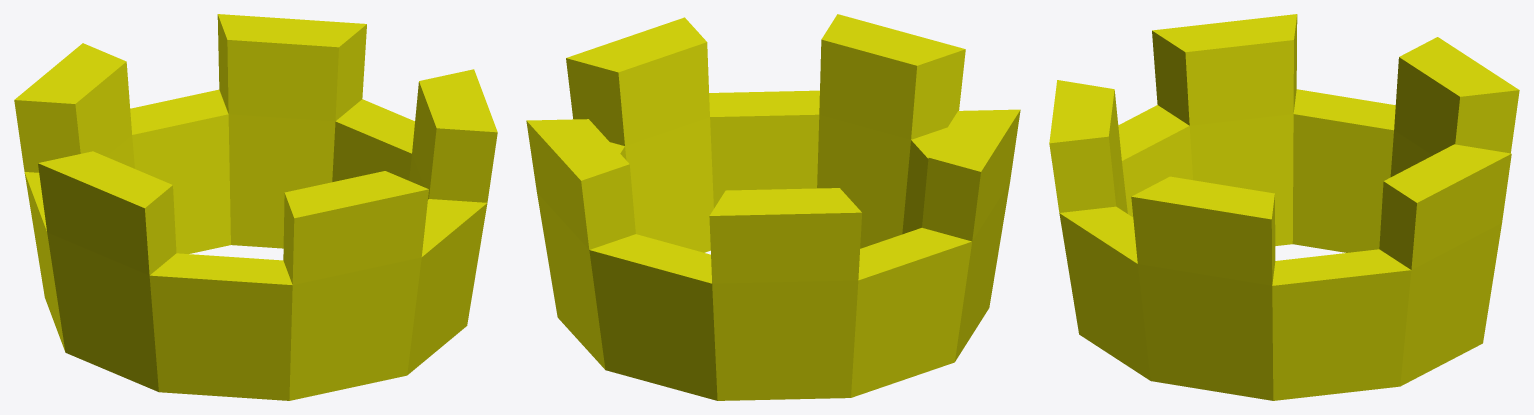
File: hat5.fbx
The picture shows the model from 3 angles, left to right: view 1: azimuth 30°, elevation 25°; view 2: azimuth 150°, elevation 25°; view 3: azimuth 270°, elevation 25°; orthographic projection.
Visible parts, largest first — view 1: Cylinder; view 2: Cylinder; view 3: Cylinder.
Part boxes in pixels (x1,y1,x2,y2): Cylinder: [14, 14, 497, 400]; Cylinder: [526, 14, 1020, 400]; Cylinder: [1049, 14, 1519, 400].
Bounding box in the file's own units: 229 × 101 × 221.
